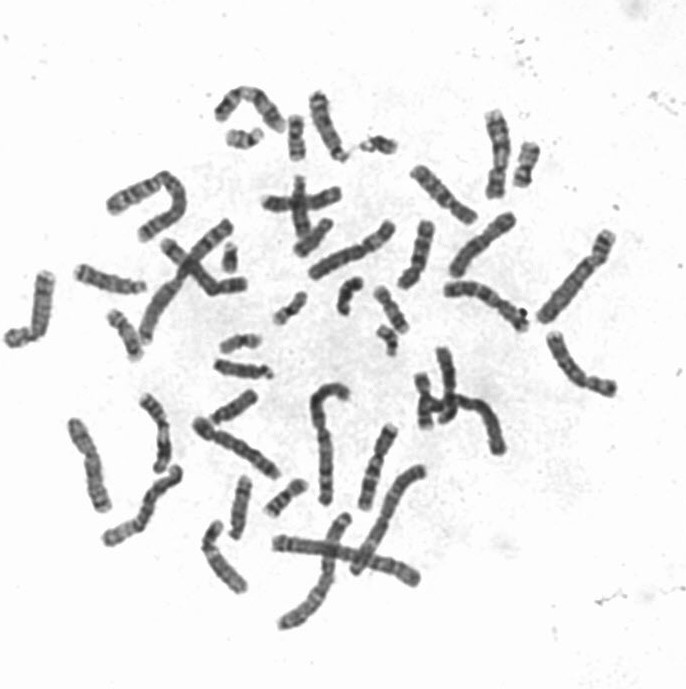chromosomes: (136, 218, 239, 341), (348, 461, 433, 582), (276, 509, 355, 636), (94, 465, 192, 562), (268, 534, 425, 590), (537, 226, 618, 330), (189, 416, 285, 489), (306, 215, 402, 287), (310, 377, 360, 509), (440, 212, 523, 288), (103, 170, 188, 244), (429, 388, 507, 464), (64, 414, 120, 519), (543, 329, 623, 402), (440, 279, 541, 336), (161, 238, 250, 300), (0, 270, 59, 357), (409, 162, 482, 232), (210, 82, 290, 140), (355, 421, 404, 513), (134, 388, 179, 486), (199, 519, 249, 600), (306, 84, 351, 165), (246, 187, 349, 222), (478, 103, 513, 206), (70, 259, 153, 302), (395, 217, 440, 295), (426, 338, 461, 428), (105, 305, 149, 371), (218, 476, 256, 545), (373, 278, 417, 337), (208, 355, 286, 386), (258, 476, 312, 520), (288, 216, 338, 261), (511, 137, 549, 193), (272, 285, 313, 330), (211, 390, 263, 425), (335, 273, 367, 322), (413, 369, 437, 432), (292, 174, 314, 241), (214, 331, 264, 359), (286, 111, 310, 166), (375, 323, 404, 365), (223, 124, 268, 151), (354, 131, 401, 156), (220, 240, 240, 277)
